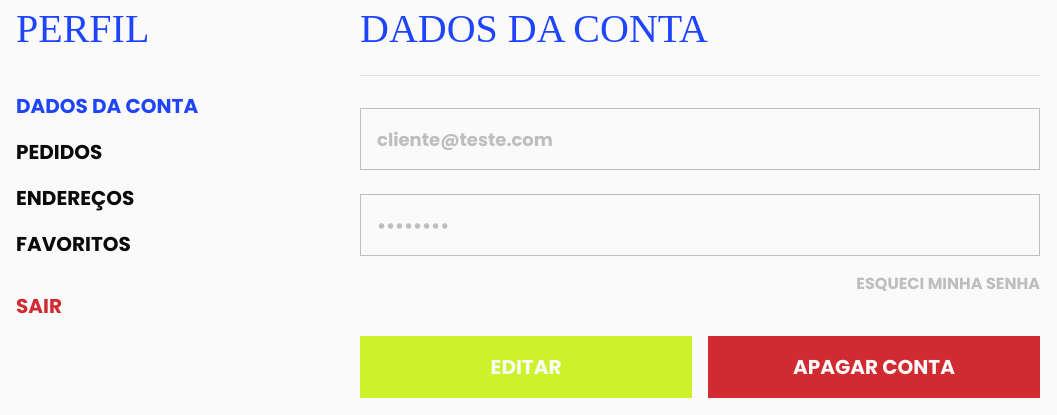
Test: Profile Component › permite alternar para o modo de exclusão
The image size is (1057, 415).
Click the button "Apagar Conta": (874, 367) left=708, top=336, right=1040, bottom=398
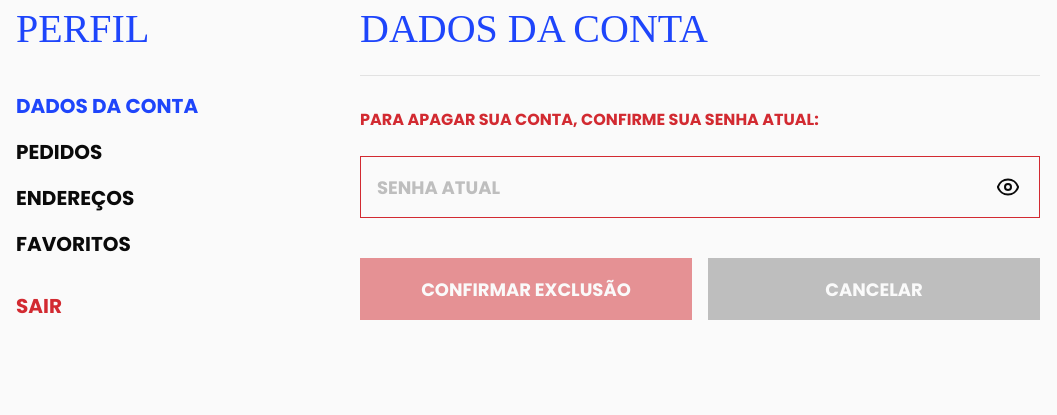
Now the text "Para apagar sua conta, confirme sua senha atual:" is shown, box left=360, top=108, right=819, bottom=131
